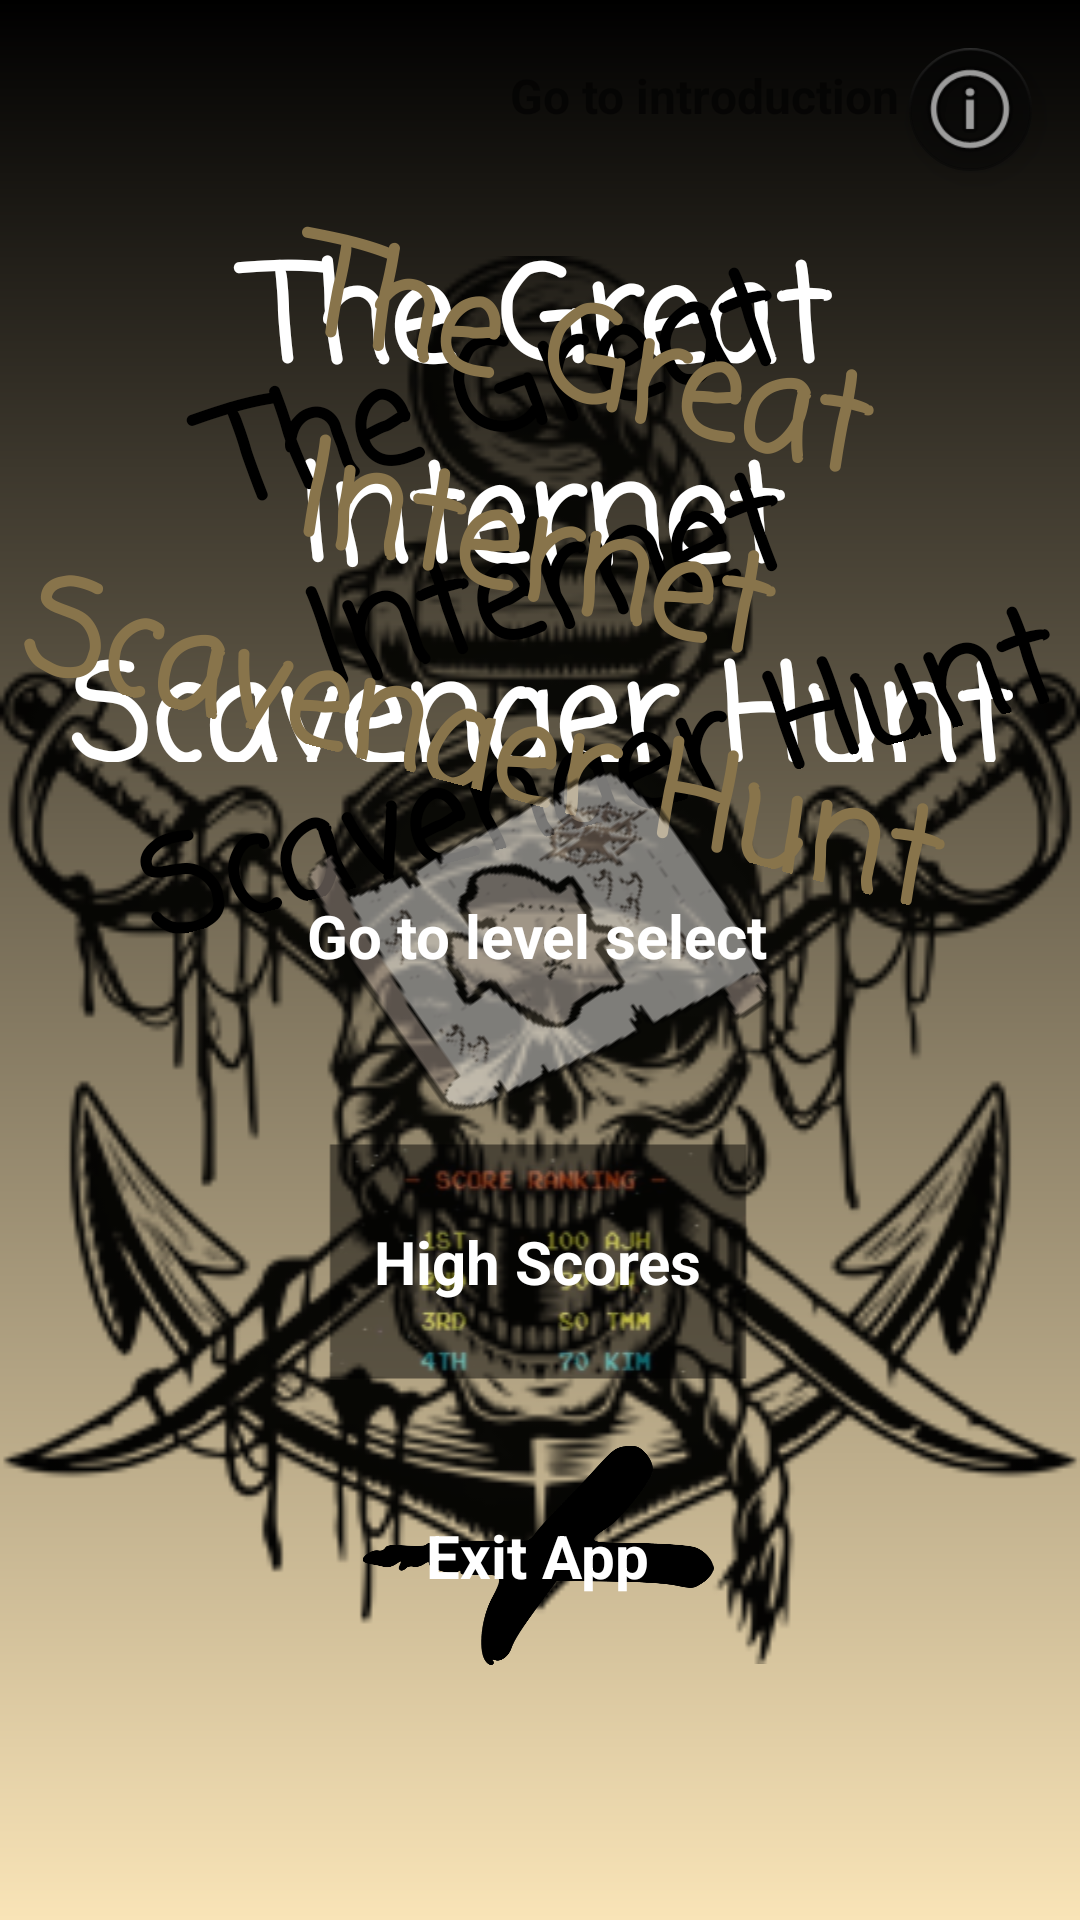

Screen size 1080 × 1920. Icon name, then its center in pixels as point (x, y):
info details: point (970, 98)
